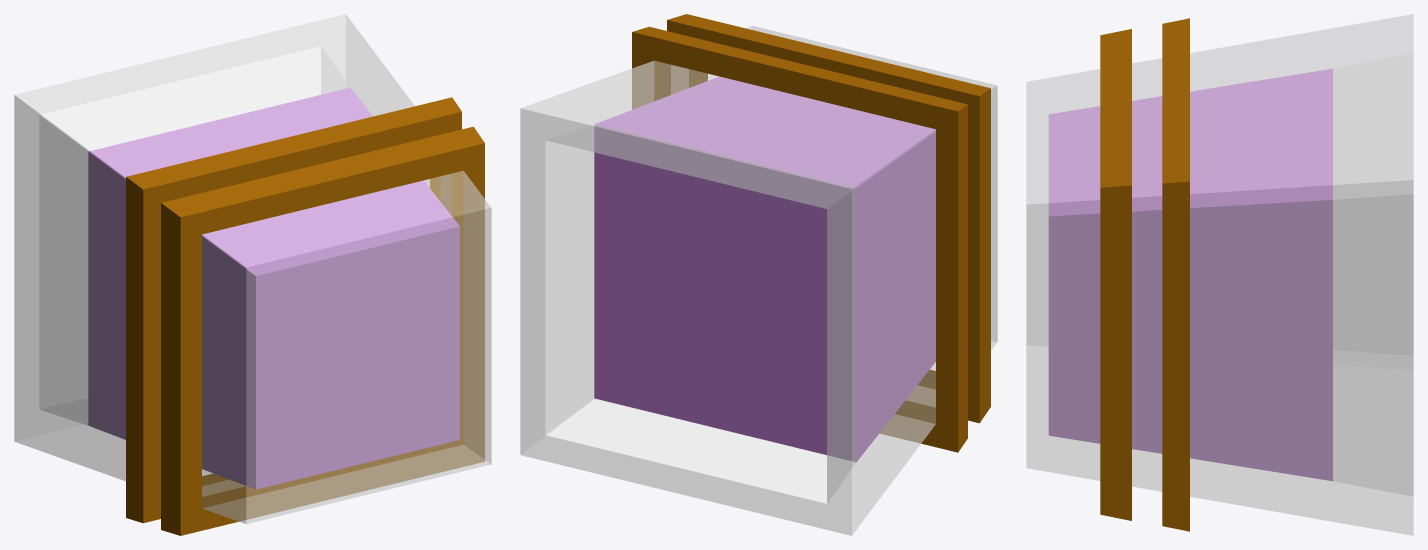
File: Drink.fbx
3 views of the same model, side by side, from view 1: azimuth 30°, elevation 25°; view 2: azimuth 150°, elevation 25°; view 3: azimuth 270°, elevation 25° (orthographic). The views are drawn at different scales.
Parts seen in each view (by area): view 1: Glass; view 2: Glass; view 3: Glass.
Part boxes in pixels (x1,y1,x2,y2): Glass: [14, 14, 491, 535]; Glass: [520, 14, 997, 535]; Glass: [1026, 14, 1413, 535].
Bounding box in the file's own units: 20.27 × 20.27 × 20.
